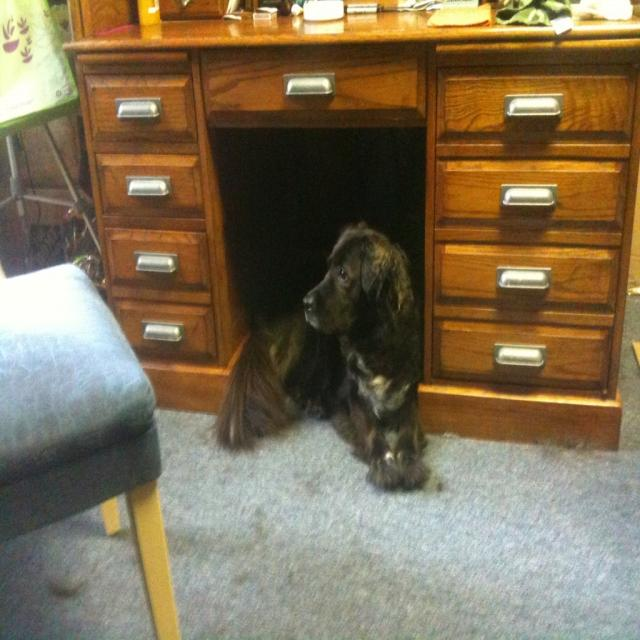chair: (0, 261, 180, 640)
desk: (63, 0, 639, 453)
